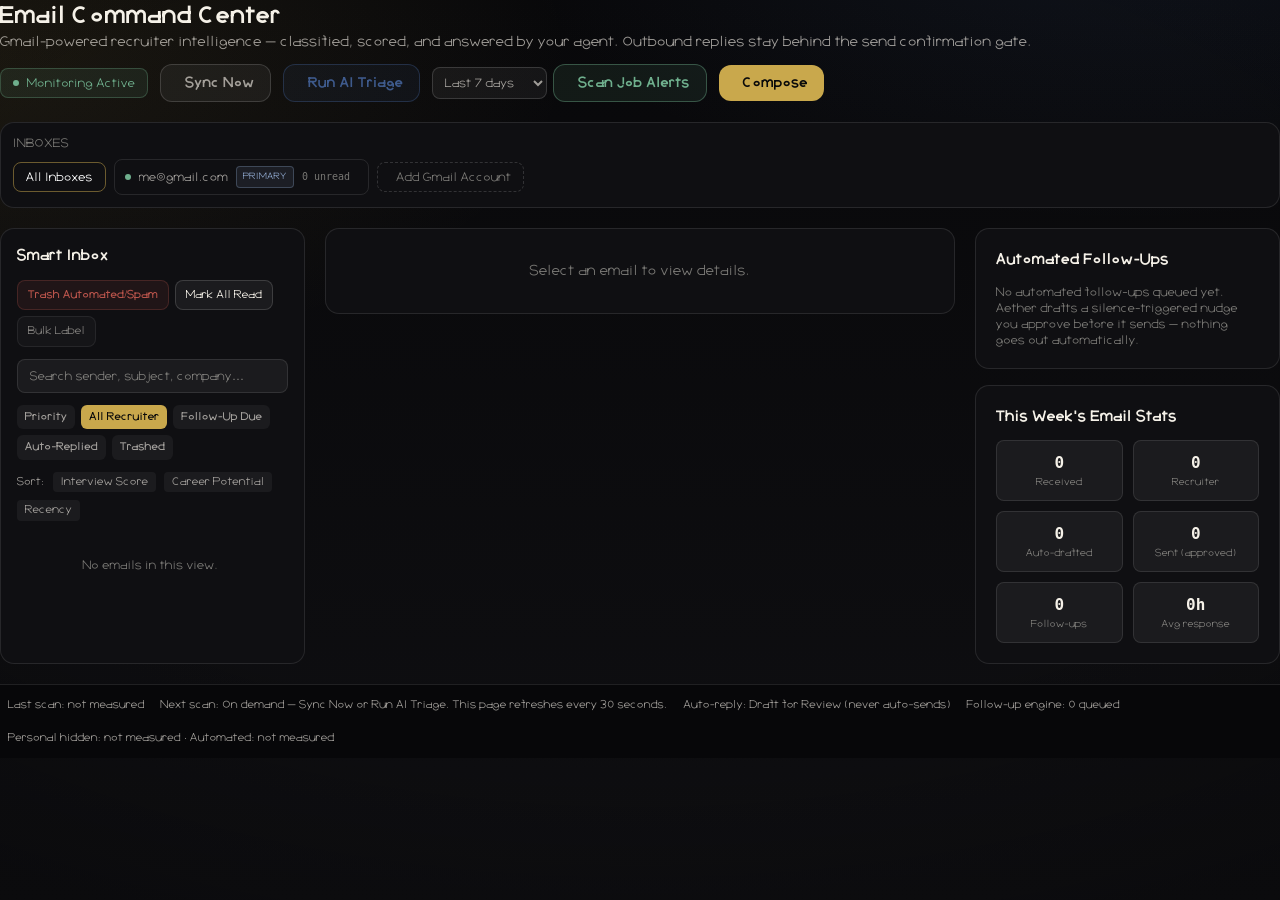
Test: honest states › zero alerts found never reads as an import
Click the button with test id "run-job-alerts-btn".
click(630, 83)  # box x1=553 y1=64 x2=707 y2=102
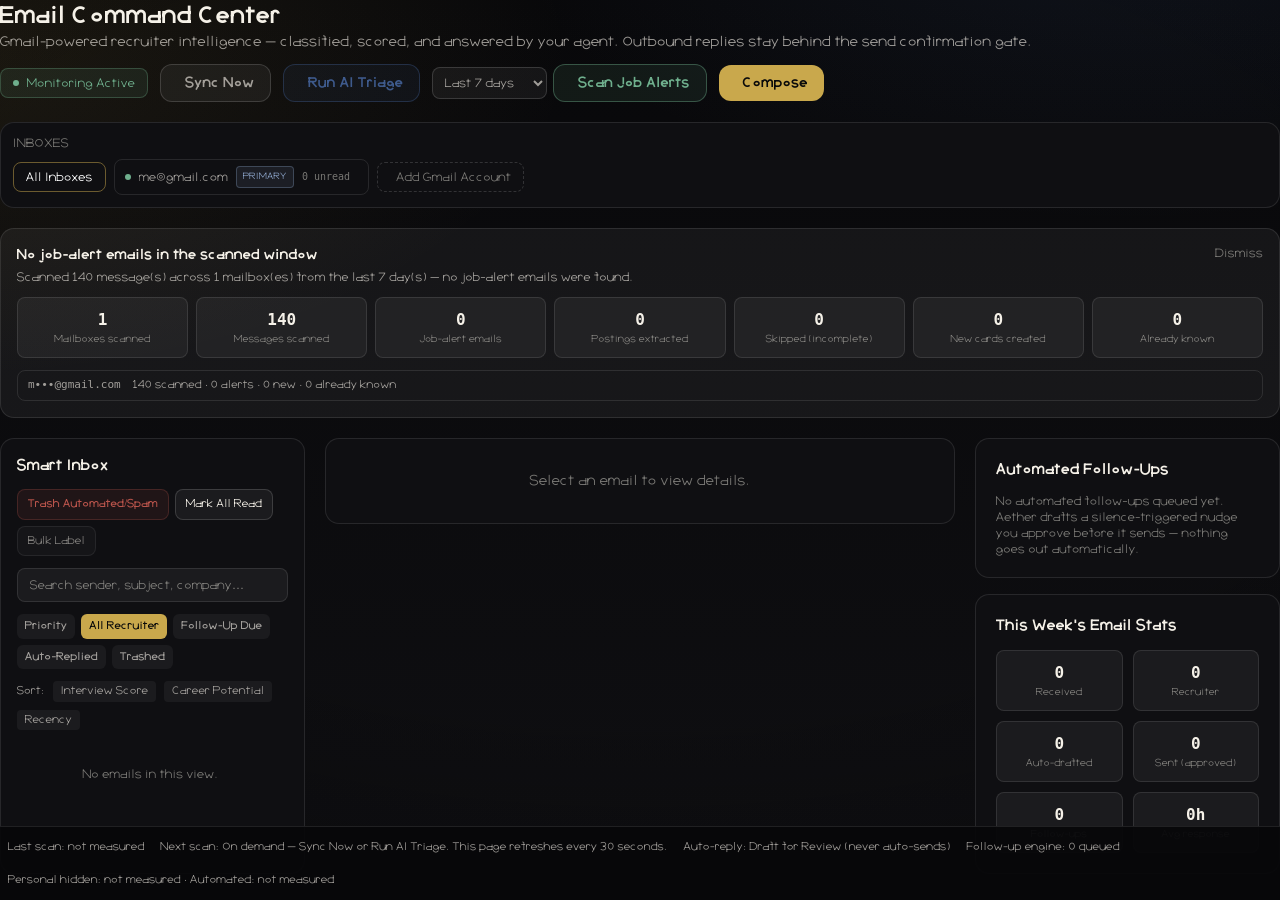
Expected: the message with test id "job-alerts-result" shows "No job-alert emails in the scanned window", x1=17 y1=248 x2=318 y2=262
